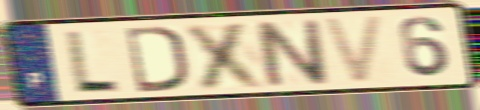6: (397, 15, 453, 80)
D: (122, 23, 189, 95)
L: (63, 28, 123, 94)
N: (251, 17, 334, 89)
V: (319, 12, 388, 87)
X: (181, 19, 271, 91)
